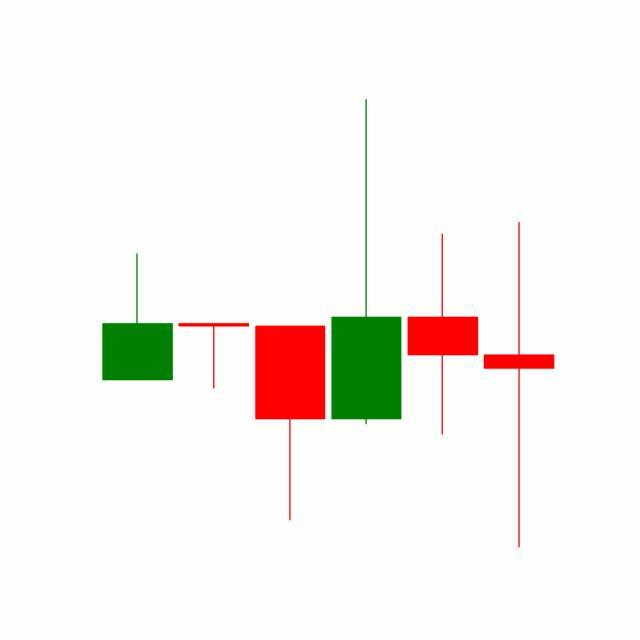Spinning Top: (404, 232, 482, 438)
